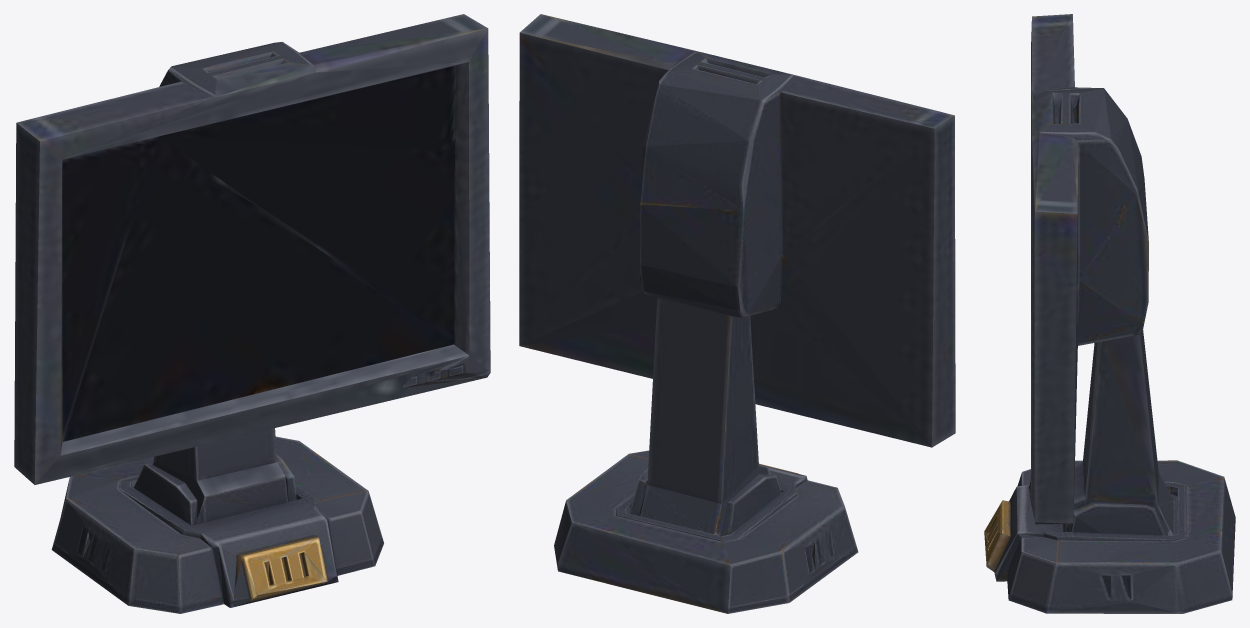
File: monitor.glb
3 renders of one model, left to right at view 1: azimuth 30°, elevation 25°; view 2: azimuth 150°, elevation 25°; view 3: azimuth 270°, elevation 25°, orthographic. The views are drawn at different scales.
Parts seen in each view (by area): view 1: Mesh_0; view 2: Mesh_0; view 3: Mesh_0.
Boxes of the visible parts, left/top/right/bottom form: Mesh_0: left=14, top=14, right=490, bottom=613; Mesh_0: left=519, top=14, right=955, bottom=613; Mesh_0: left=984, top=14, right=1235, bottom=613.
Size of the model in its own units: 0.4753 by 0.5 by 0.2534.
Materials: 1 (1 with a texture image).
